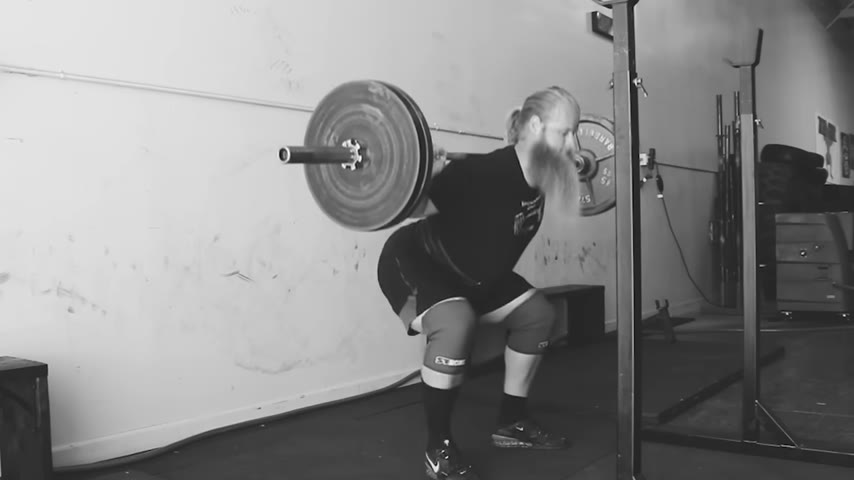barbell_plate_side: (272, 75, 383, 243), (526, 76, 624, 218)
